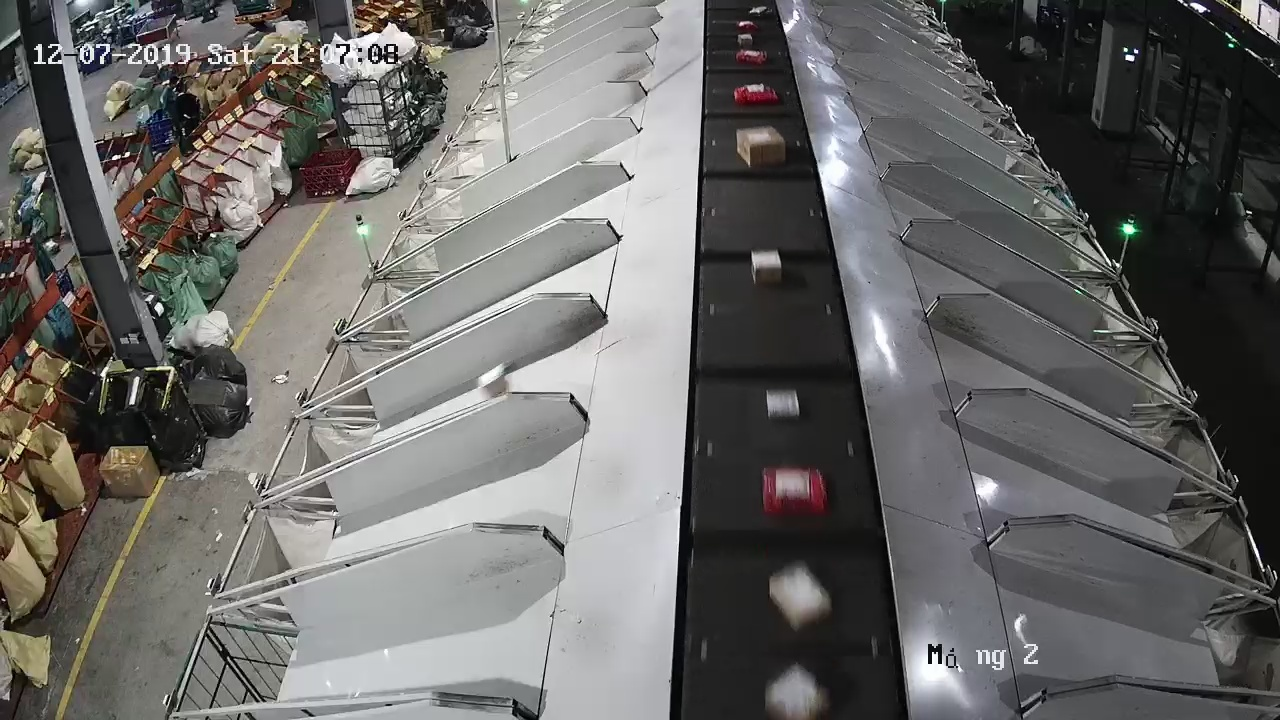parcel: (477, 361, 507, 396)
